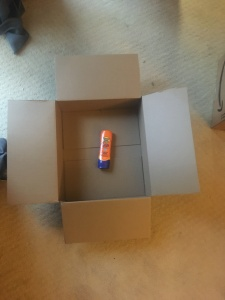innerbox: (54, 99, 153, 197)
outerbox: (9, 55, 201, 240)
product: (99, 131, 113, 170)
